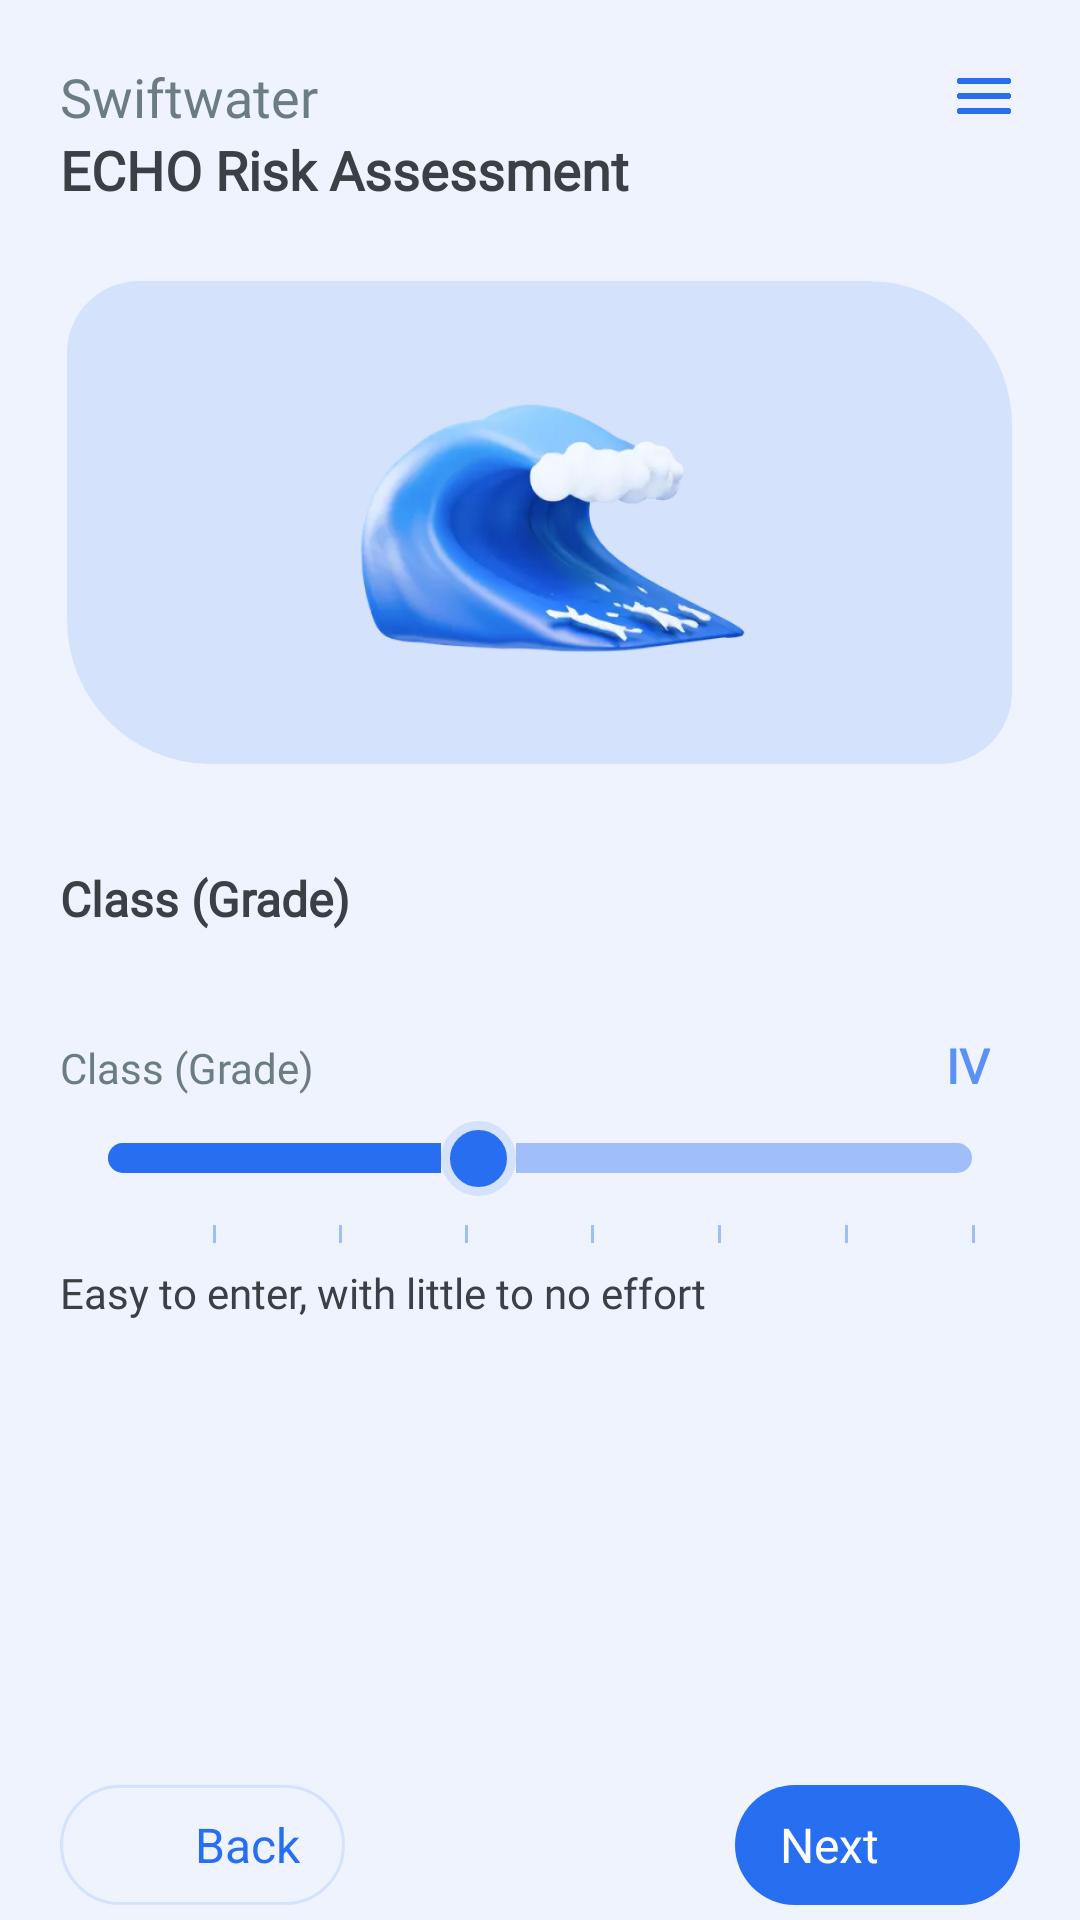

Point at icon controls on the screen. Image size 1080x1920, points as (x=x, y=y).
menu: (x=984, y=96)
